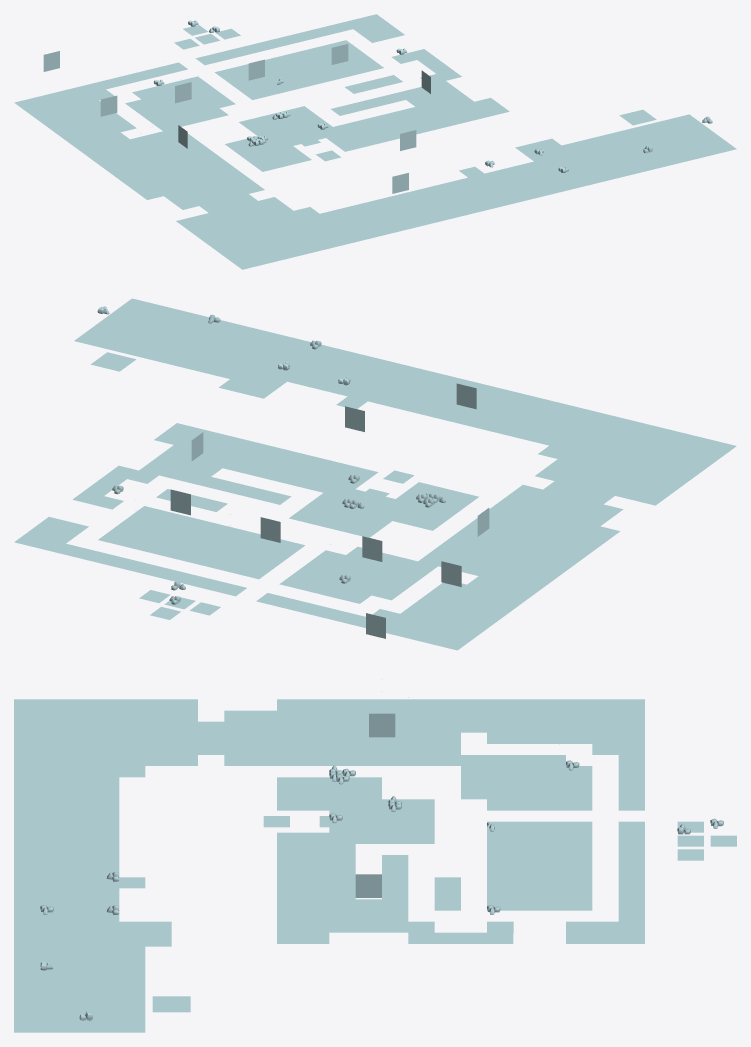
The model's file is object_6_lev1_lev2.glb.
3 views of the same model, one above another, from view 1: azimuth 30°, elevation 25°; view 2: azimuth 150°, elevation 25°; view 3: azimuth 270°, elevation 25° (orthographic). The views are drawn at different scales.
Visible parts, largest first — view 1: object_6_lev1_lev2; view 2: object_6_lev1_lev2; view 3: object_6_lev1_lev2.
Part boxes in pixels (bbox=[...]): object_6_lev1_lev2: bbox=[14, 14, 736, 269]; object_6_lev1_lev2: bbox=[14, 298, 736, 650]; object_6_lev1_lev2: bbox=[14, 679, 736, 1032].
Bounding box in the file's own units: 74.43 × 4.96 × 68.24.
